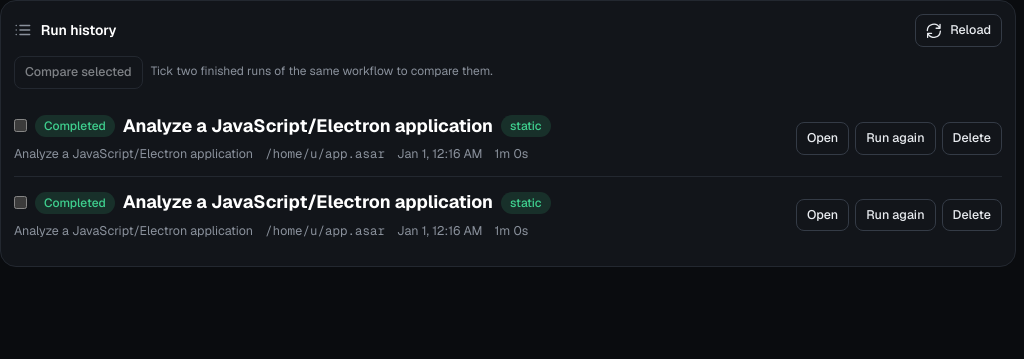
Test case: History › shows the server's message plainly when the comparison fails
Click the 1st checkbox named "Select Analyze a JavaScript/Electron application to compare": coordinates (20, 126) [14,119,27,132]
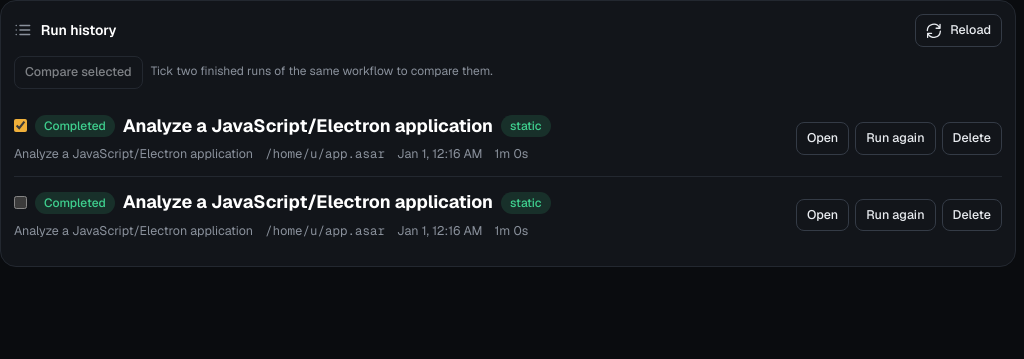
Click the 2nd checkbox named "Select Analyze a JavaScript/Electron application to compare": coordinates (20, 203) [14,196,27,209]
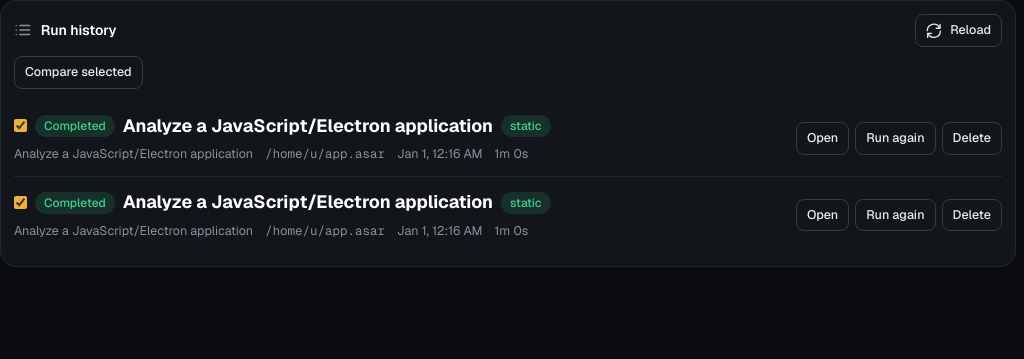
Click the button "Compare selected": coordinates (78, 72) [14,56,143,89]
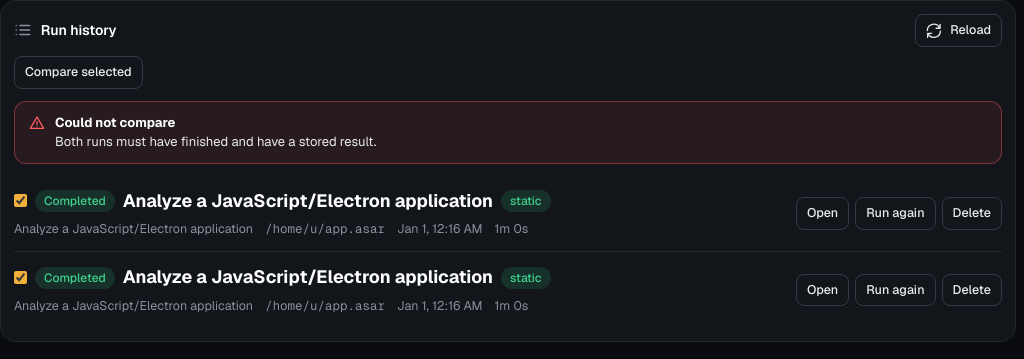
Check: the text "Could not compare" is shown, box [55,114,175,130]
Check: the text "Both runs must have finished and have a stored result." is shown, box [55,133,376,150]
